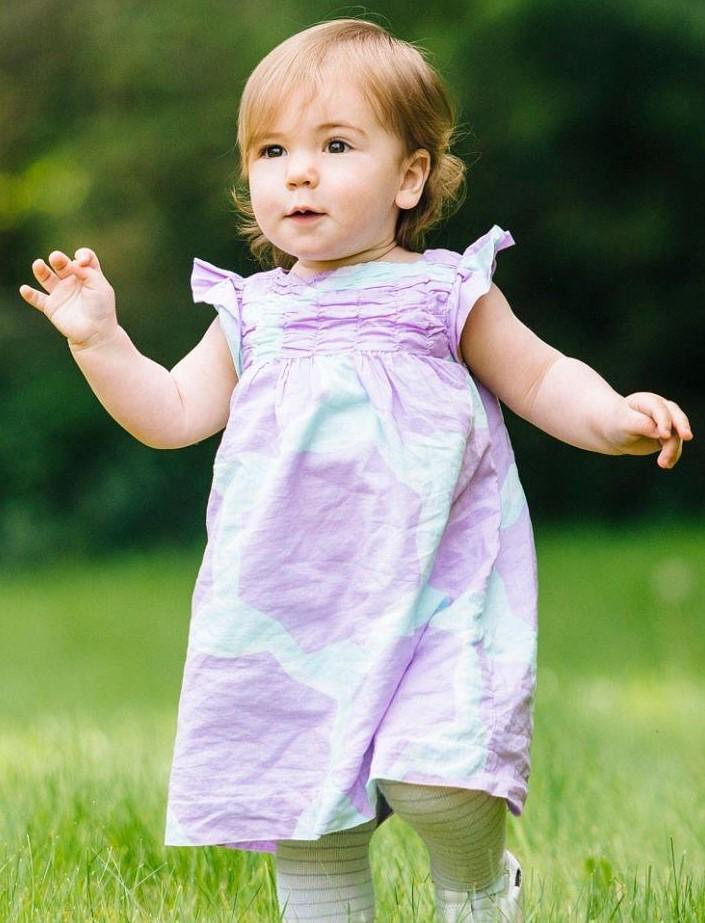Healthy: (238, 56, 436, 279)
